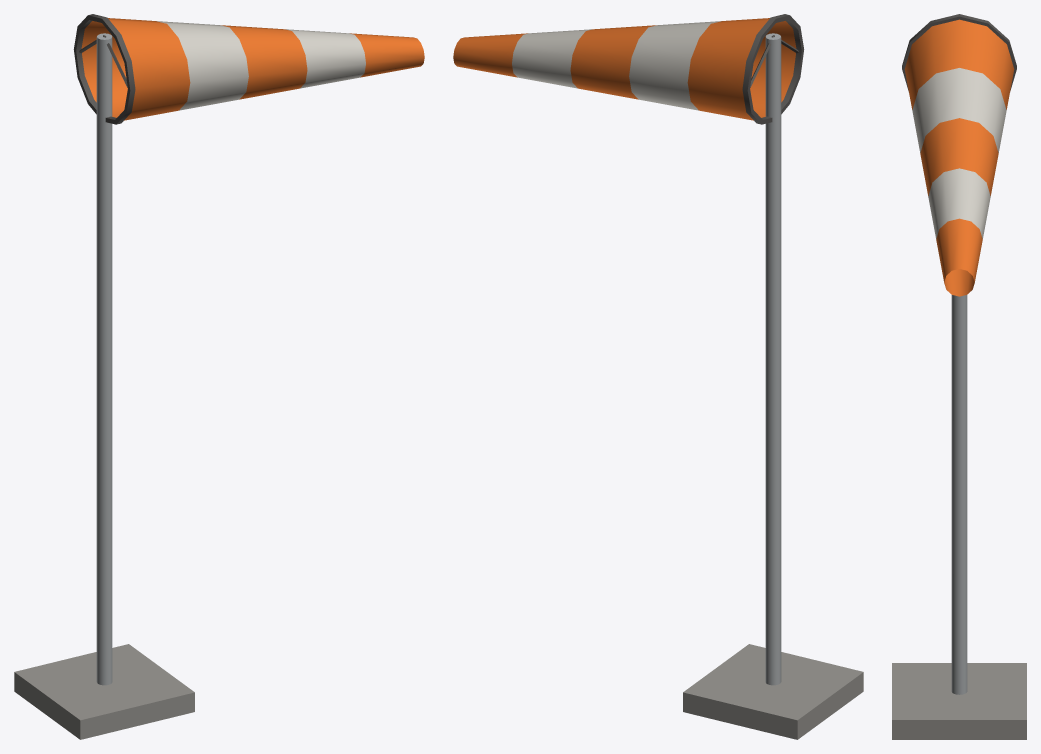
The model's file is Scenery_Windsock.fbx.
3 views of the same model, side by side, from view 1: azimuth 30°, elevation 25°; view 2: azimuth 150°, elevation 25°; view 3: azimuth 270°, elevation 25° (orthographic).
Parts seen in each view (by area): view 1: Scenery_Windsock_LOD0; view 2: Scenery_Windsock_LOD0; view 3: Scenery_Windsock_LOD0.
Part boxes in pixels (<box>): Scenery_Windsock_LOD0: <box>14,14,424,739</box>; Scenery_Windsock_LOD0: <box>453,14,863,739</box>; Scenery_Windsock_LOD0: <box>892,14,1026,739</box>.
Size of what is drawn, in the model's own units: 3.55 by 6.27 by 1.1.
